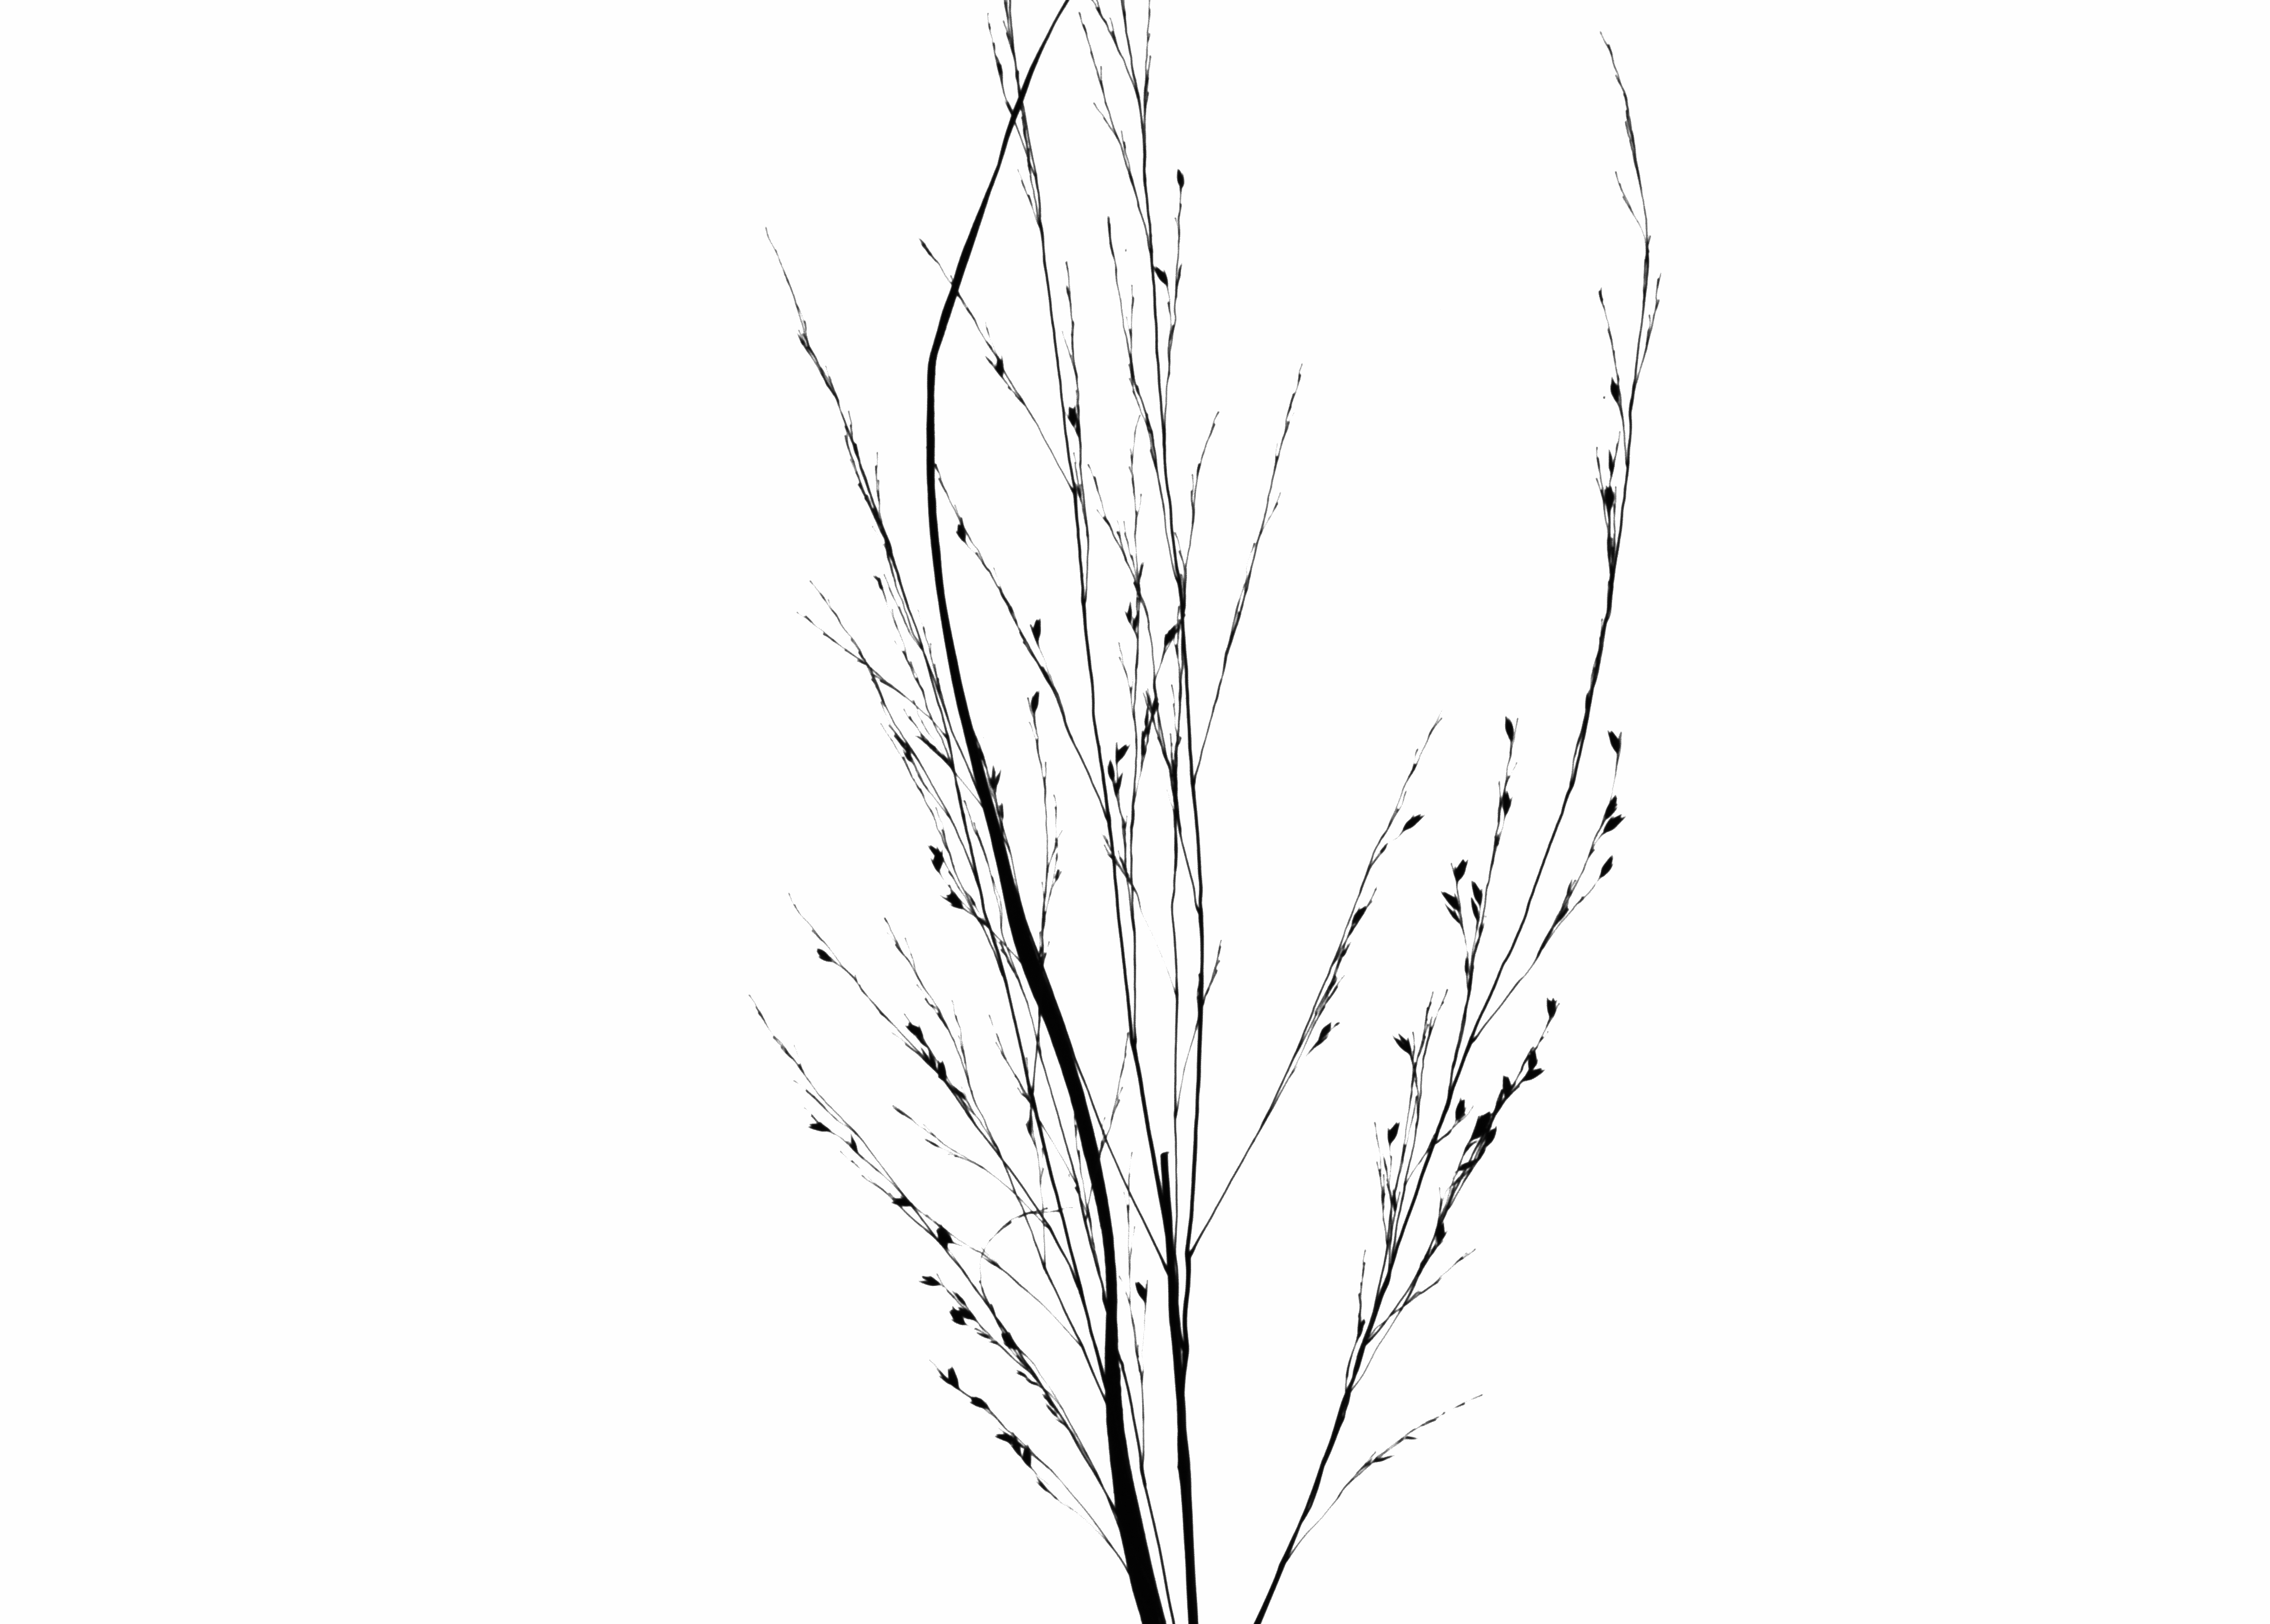seed: (1306, 1016, 1343, 1056), (1602, 374, 1626, 411), (1472, 1106, 1495, 1144), (1498, 708, 1519, 749), (1389, 1028, 1414, 1062), (1400, 810, 1428, 838), (1602, 814, 1630, 842), (1062, 402, 1087, 434), (1349, 902, 1370, 939), (902, 1016, 930, 1042), (942, 1360, 964, 1394), (1496, 787, 1517, 821), (1597, 852, 1619, 882), (1604, 726, 1626, 756), (1600, 480, 1619, 515), (930, 1222, 951, 1253), (804, 1116, 835, 1137), (1449, 1093, 1470, 1125), (1540, 991, 1561, 1023), (814, 944, 837, 970), (999, 1325, 1022, 1352), (1602, 793, 1619, 826), (1384, 1118, 1403, 1148), (1148, 264, 1171, 288), (941, 888, 965, 910), (1442, 902, 1465, 926), (1523, 1042, 1540, 1074), (1449, 856, 1470, 882), (1162, 619, 1182, 647), (916, 1271, 944, 1290), (990, 1429, 1020, 1446), (1431, 1216, 1449, 1246), (928, 847, 948, 874), (967, 1394, 993, 1413), (1027, 687, 1043, 719), (888, 1193, 916, 1211), (1470, 879, 1488, 907), (1482, 1125, 1502, 1149), (1437, 889, 1461, 909), (953, 518, 971, 545), (1523, 1067, 1549, 1084), (1498, 1072, 1516, 1098), (1468, 896, 1484, 924), (1604, 445, 1618, 476), (1173, 165, 1189, 192), (1115, 740, 1134, 761), (948, 1306, 965, 1329), (993, 352, 1008, 380), (1020, 1441, 1034, 1469), (1132, 1280, 1148, 1304), (1458, 1158, 1482, 1174), (1461, 951, 1473, 982), (1113, 766, 1125, 796), (848, 1132, 863, 1155), (1104, 756, 1117, 782), (1030, 617, 1043, 643), (1125, 601, 1136, 627), (900, 749, 916, 765), (988, 763, 997, 789), (995, 768, 1004, 791), (999, 801, 1006, 824), (1145, 707, 1152, 728)
